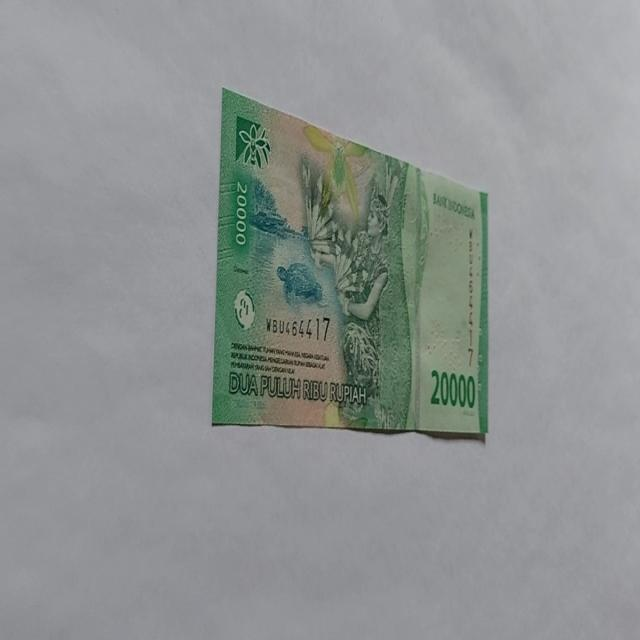dua puluh ribu rupiah: (211, 86, 490, 441), (298, 142, 420, 430)
